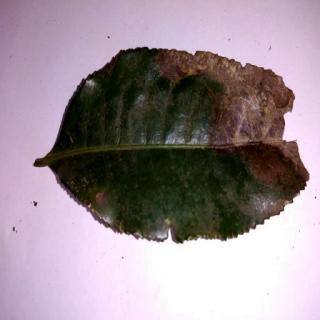Anthracnose: (33, 48, 311, 246)
